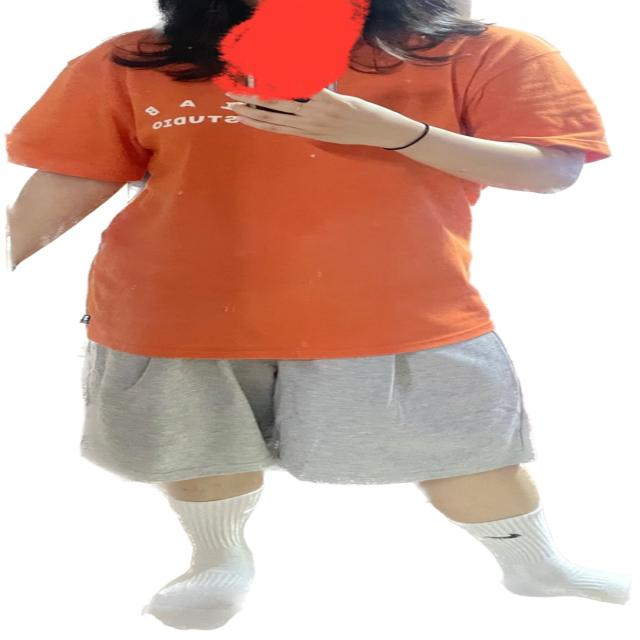shortpants: (75, 310, 529, 490)
shortsleeve: (2, 8, 608, 363)
